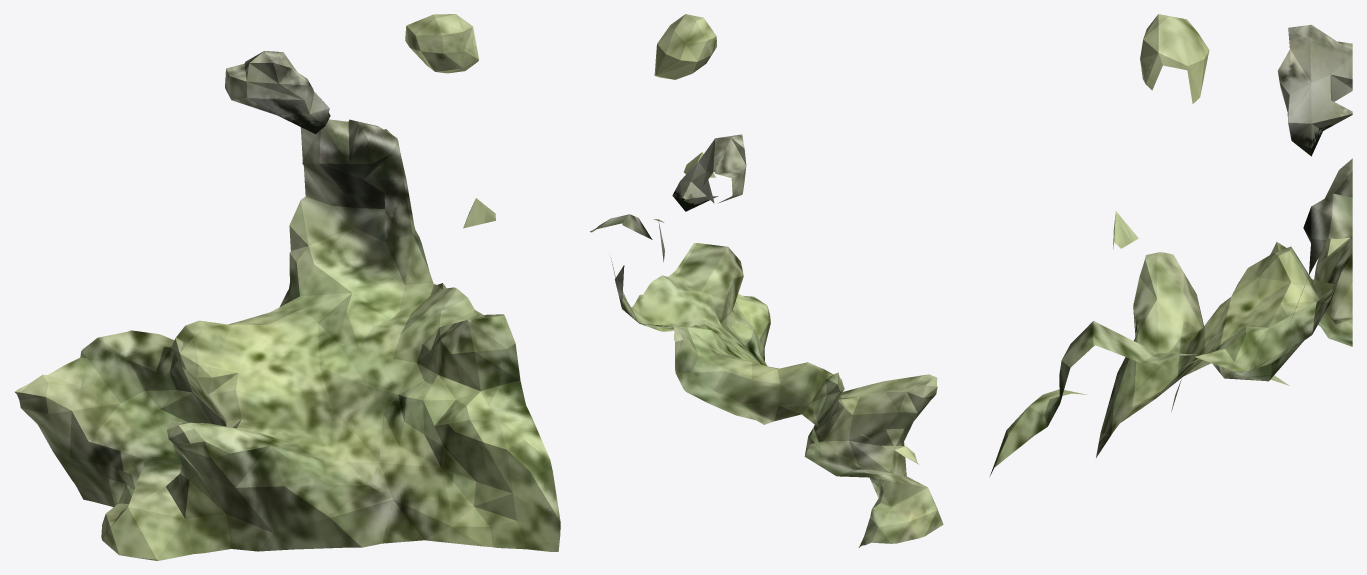
3 renders of one model, left to right at view 1: azimuth 30°, elevation 25°; view 2: azimuth 150°, elevation 25°; view 3: azimuth 270°, elevation 25°, orthographic. The views are drawn at different scales.
Bounding box in the file's own units: 3.32 × 4.11 × 2.7.
1 material, 1 textured.
